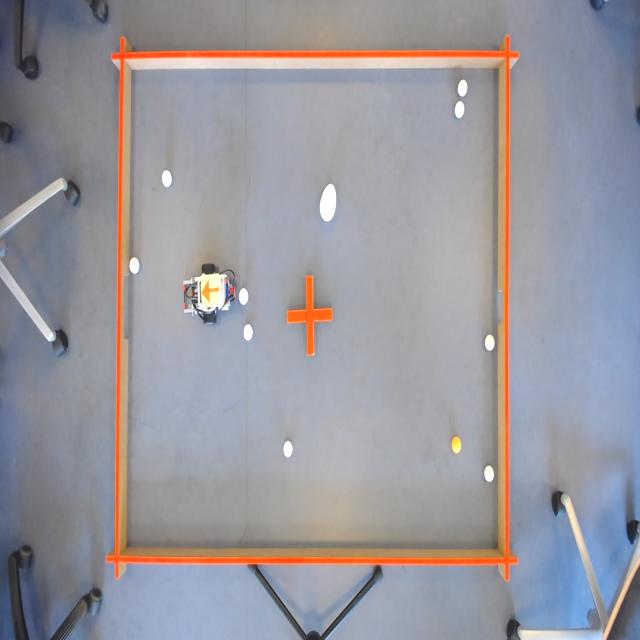cross: (285, 272, 334, 358)
egg: (318, 181, 338, 224)
orange_ball: (450, 433, 462, 458)
robot: (200, 274, 223, 307)
white_ball: (453, 98, 468, 122), (128, 251, 141, 277), (241, 320, 254, 346), (282, 438, 296, 462), (484, 333, 498, 357), (454, 78, 468, 102), (161, 167, 174, 189), (482, 461, 494, 484), (238, 284, 249, 309)
